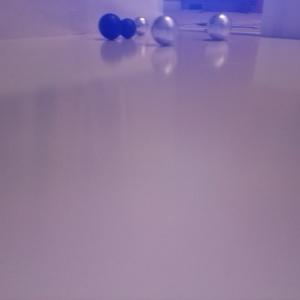alive_ball: (151, 15, 178, 45), (207, 13, 231, 41), (133, 17, 149, 36)
dead_ball: (98, 13, 123, 40), (119, 18, 137, 39)
